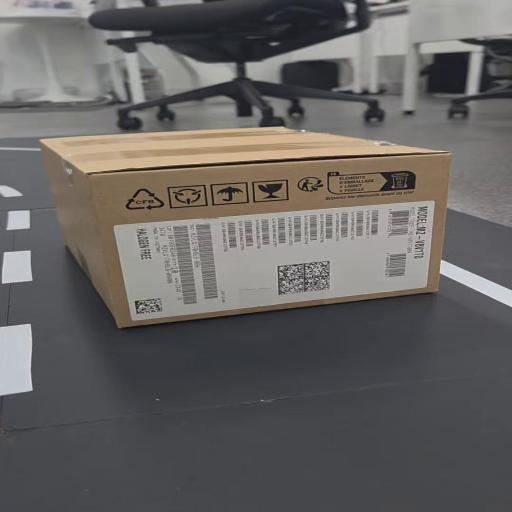Box: (35, 126, 453, 330)
